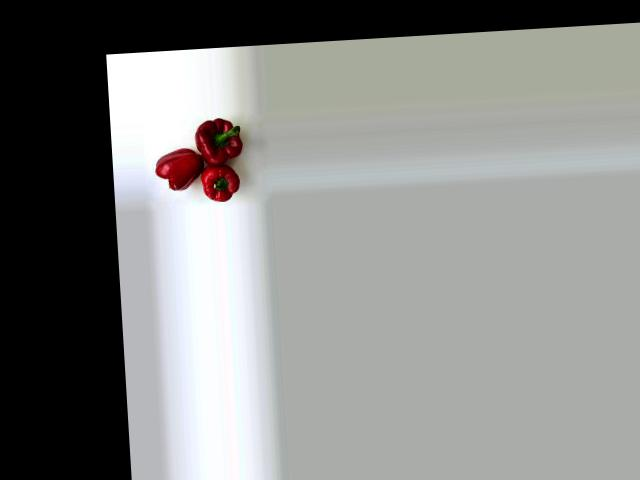bell_pepper: (148, 143, 206, 200)
